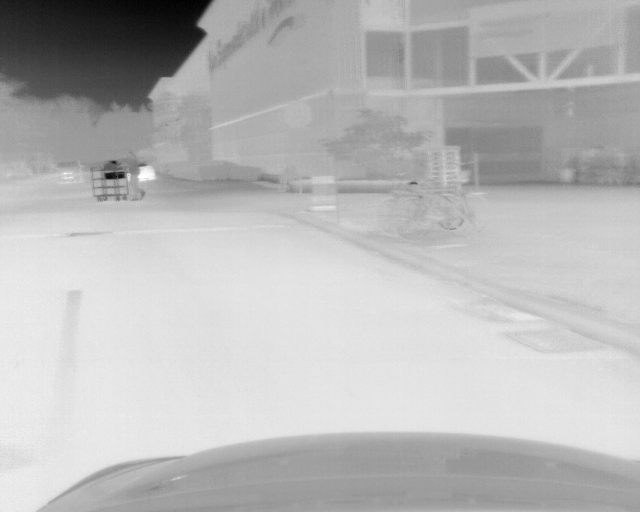bike: (372, 186, 479, 240)
car: (54, 159, 86, 187)
people: (122, 150, 148, 205)
